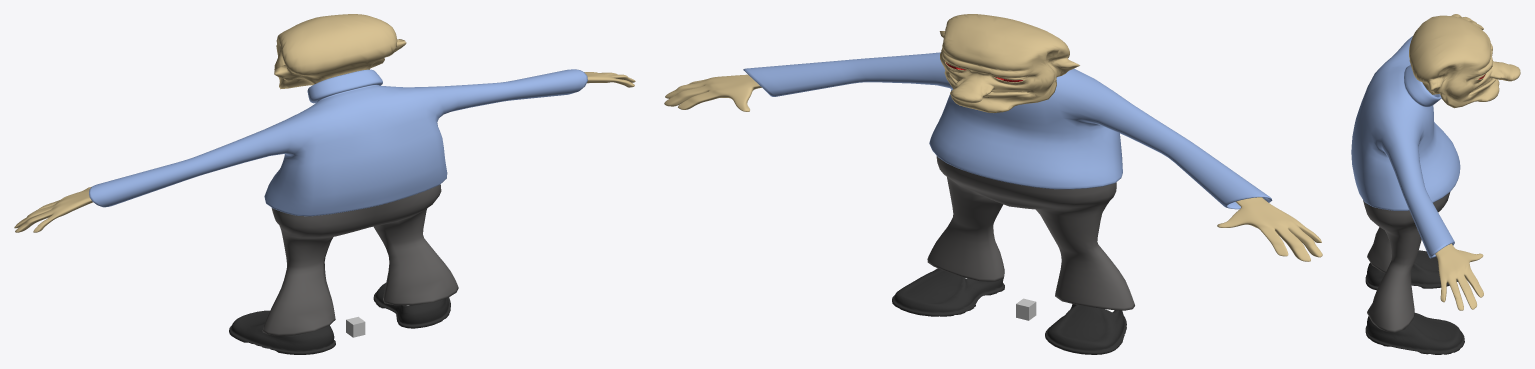
File: Oldman_1.obj
3 views of the same model, side by side, from view 1: azimuth 30°, elevation 25°; view 2: azimuth 150°, elevation 25°; view 3: azimuth 270°, elevation 25° (orthographic). The views are drawn at different scales.
Parts seen in each view (by area): view 1: Oldman_; view 2: Oldman_; view 3: Oldman_.
Part boxes in pixels (x1=…): Oldman_: x1=14, y1=14, x2=635, y2=354; Oldman_: x1=664, y1=14, x2=1322, y2=354; Oldman_: x1=1351, y1=14, x2=1520, y2=354.
Size of the model in its own units: 101 by 45.49 by 24.68.
